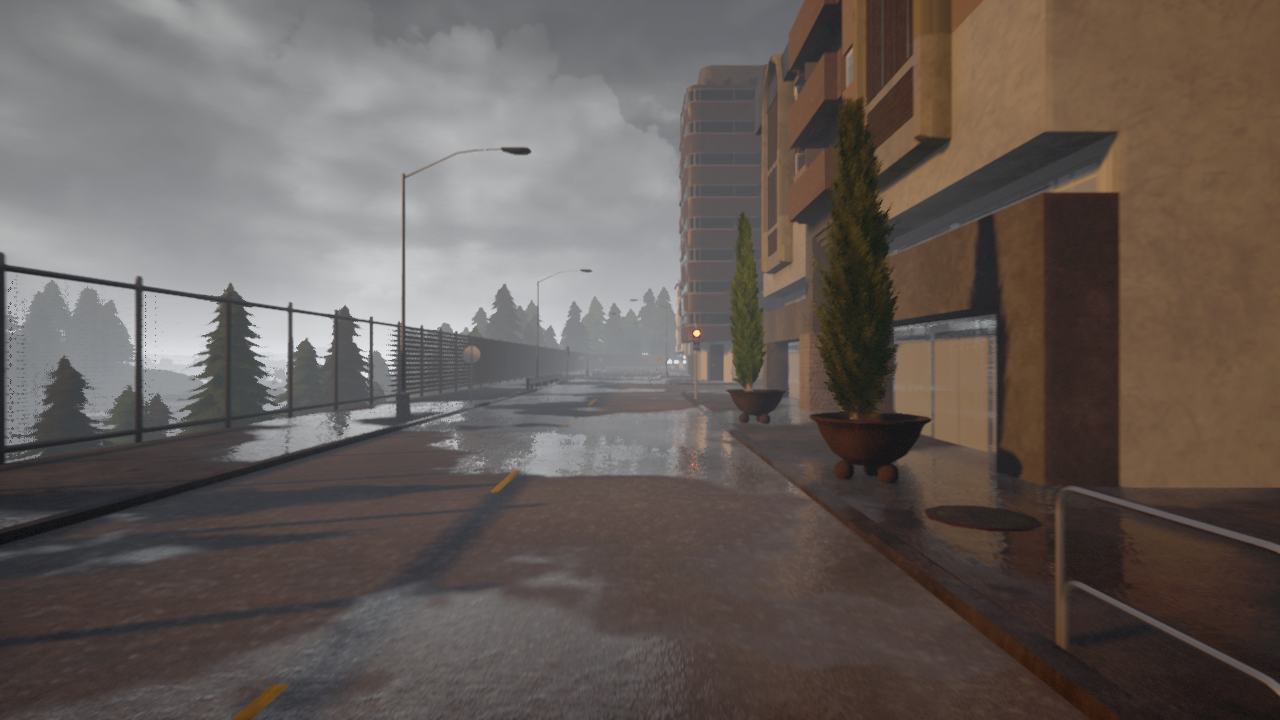red: (691, 328, 701, 351)
